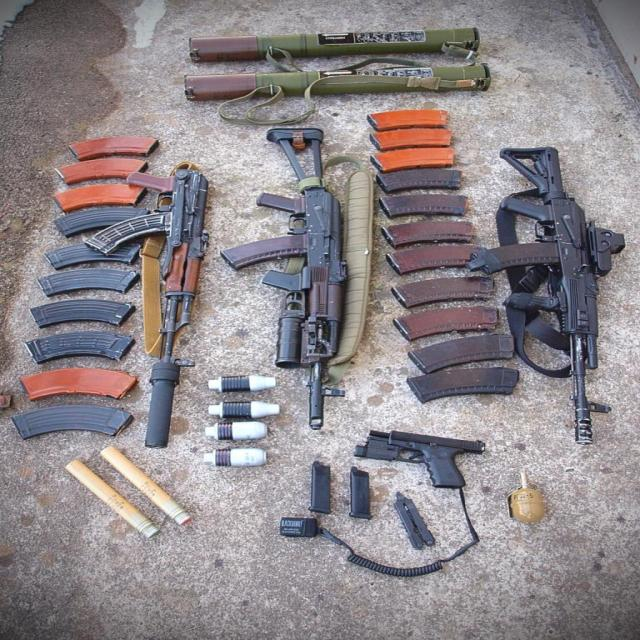firearm: (485, 146, 626, 445), (220, 128, 345, 430), (86, 170, 209, 449)
grenade: (66, 460, 160, 539), (99, 447, 193, 525), (503, 476, 544, 532), (212, 371, 276, 393), (208, 445, 271, 467), (208, 420, 271, 442), (208, 398, 271, 420)
pistol: (354, 430, 485, 488)
rocket: (186, 62, 492, 100), (190, 27, 481, 63)
